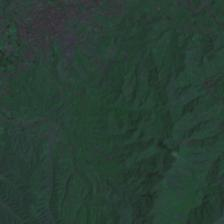landslides: (182, 136, 197, 146)
